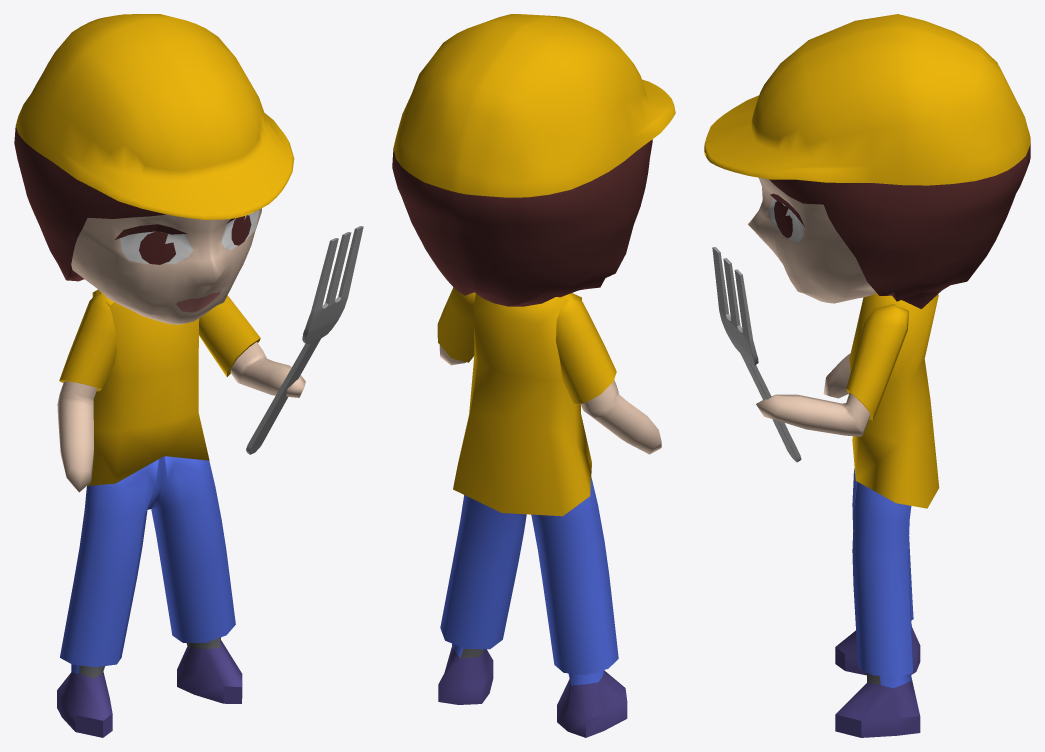
Rendered from koma_boy.fbx.
3 views of the same model, side by side, from view 1: azimuth 30°, elevation 25°; view 2: azimuth 150°, elevation 25°; view 3: azimuth 270°, elevation 25° (orthographic).
Parts seen in each view (by area): view 1: koma6_boy:fork1:pCube3; view 2: koma6_boy:fork1:pCube3; view 3: koma6_boy:fork1:pCube3.
Boxes of the visible parts, bbox=[...] form: koma6_boy:fork1:pCube3: bbox=[14, 14, 363, 737]; koma6_boy:fork1:pCube3: bbox=[392, 14, 675, 737]; koma6_boy:fork1:pCube3: bbox=[704, 14, 1030, 737].
Size of the model in its own units: 1.96 by 5.1 by 2.24.
